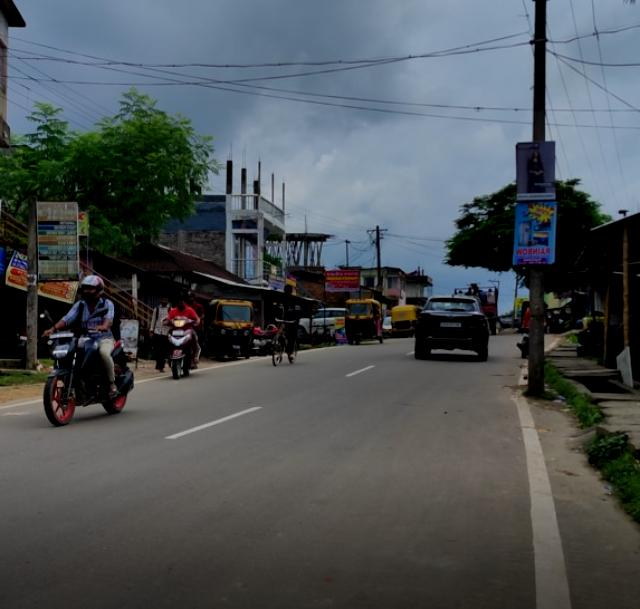licensePlate: (45, 328, 78, 342), (169, 329, 186, 339)
motorcycle: (42, 274, 134, 428), (163, 286, 200, 381)
withHelmet: (74, 277, 111, 303)
withoutHelmet: (174, 296, 184, 312), (187, 292, 198, 303)
